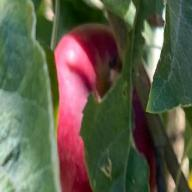Apples: (54, 23, 156, 191)
